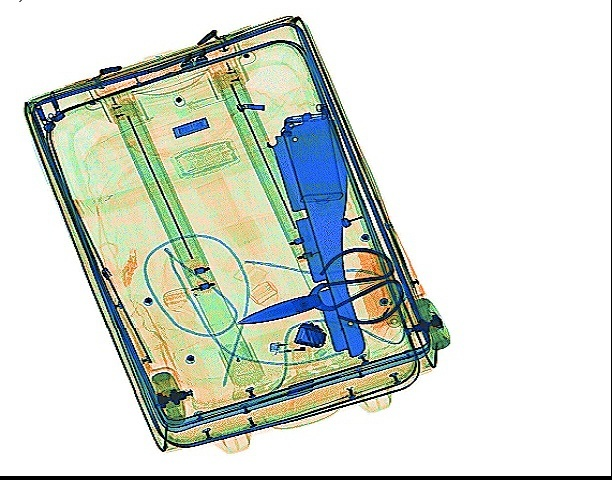lighter: (366, 279, 411, 343), (269, 340, 336, 357)
scissors: (236, 244, 404, 326)
zippooil: (282, 110, 342, 206)
